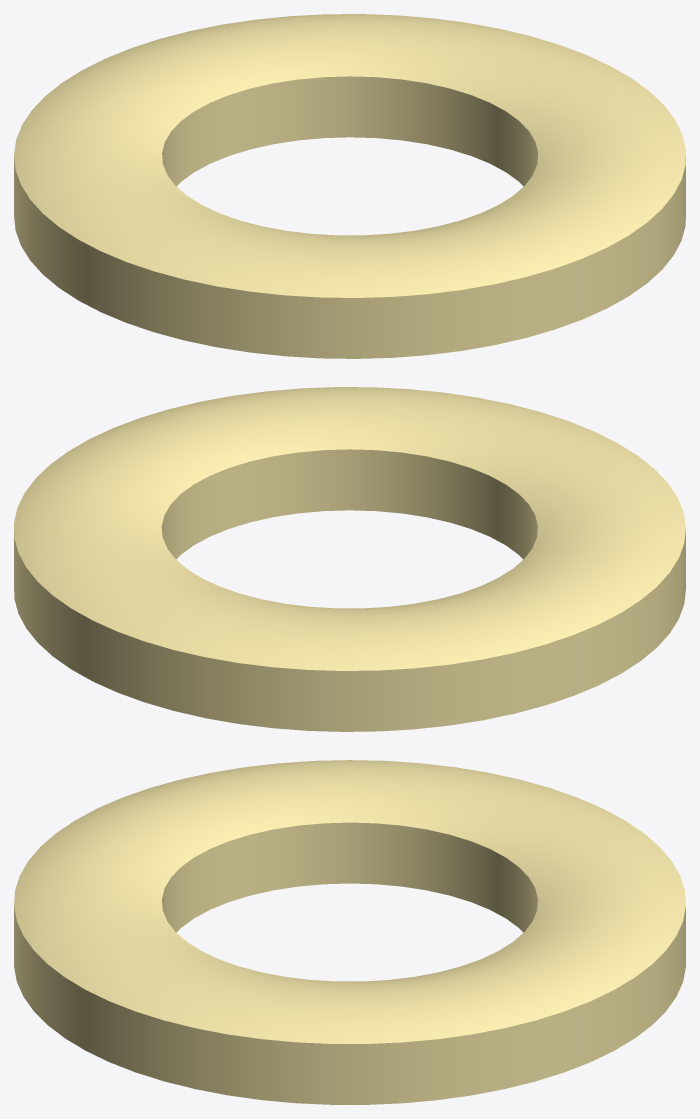
The model's file is washer_M2.5_metal_brass.glb.
3 renders of one model, top to bottom at view 1: azimuth 30°, elevation 25°; view 2: azimuth 150°, elevation 25°; view 3: azimuth 270°, elevation 25°, orthographic.
Visible parts, largest first — view 1: Solid1; view 2: Solid1; view 3: Solid1.
Part boxes in pixels (x1=…): Solid1: x1=14, y1=14, x2=685, y2=358; Solid1: x1=14, y1=387, x2=685, y2=731; Solid1: x1=14, y1=760, x2=685, y2=1104.
Bounding box in the file's own units: 0.005 × 0.0006 × 0.005.
